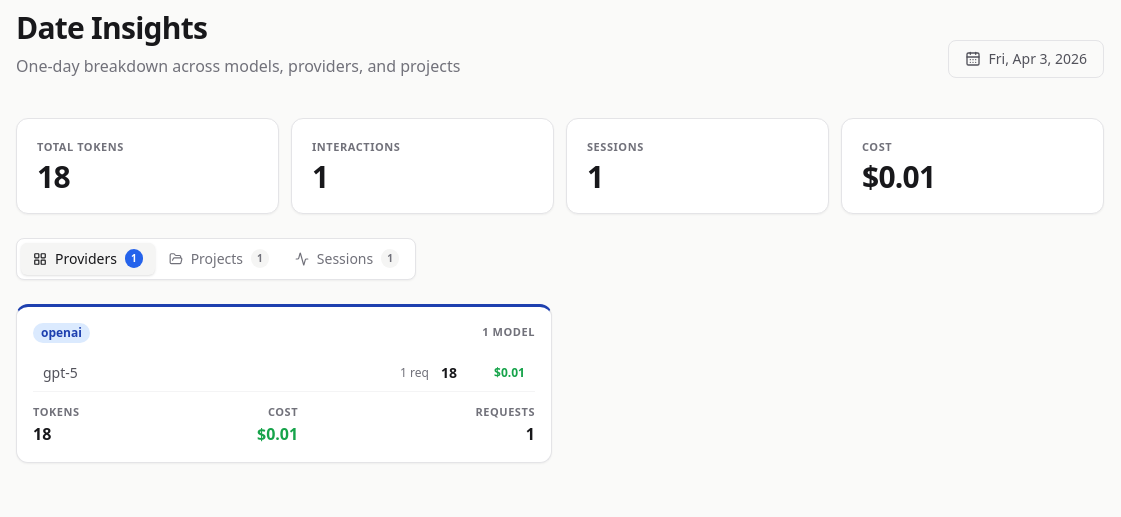
Test case: DateInsights page › renders date breakdown sections from API payload
Expected: the text "gpt-5" is shown, top-left (43, 362), bottom-right (78, 382)
Note: Switch to Projects tab
Click the button "Projects 1" at (219, 258), box top-left (157, 242), bottom-right (281, 274)
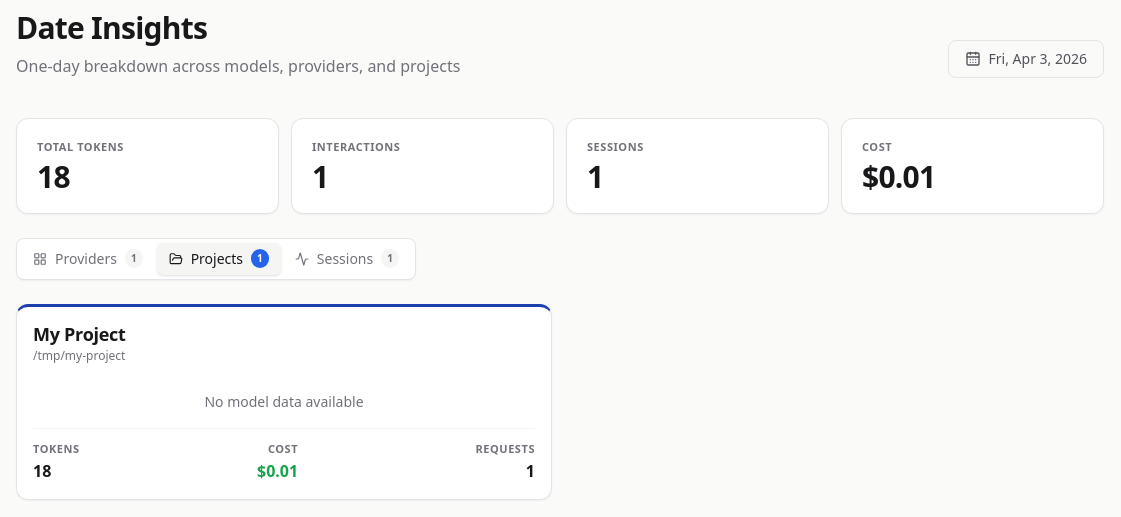
Result: the text "My Project" is shown at top-left (33, 322), bottom-right (126, 346)
